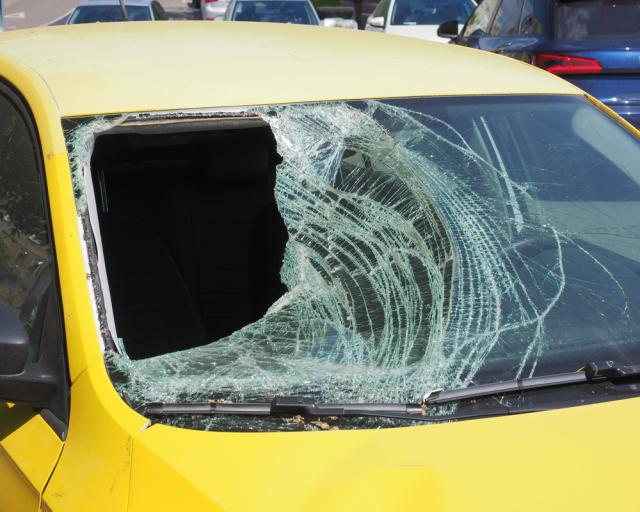glass shatter: (62, 96, 640, 430)
